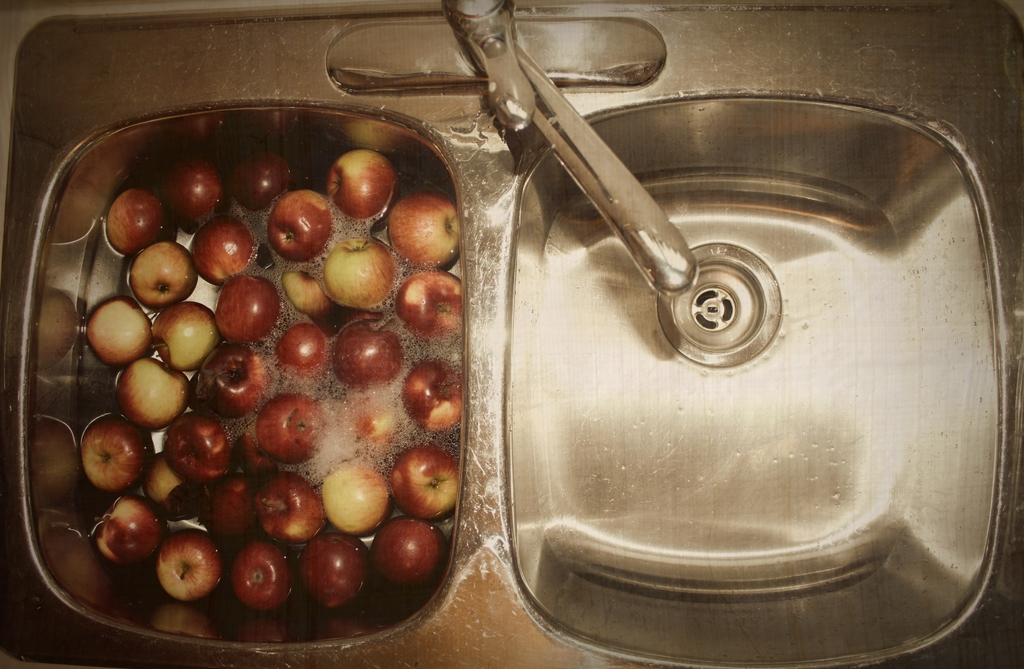Apple: (81, 140, 469, 604)
